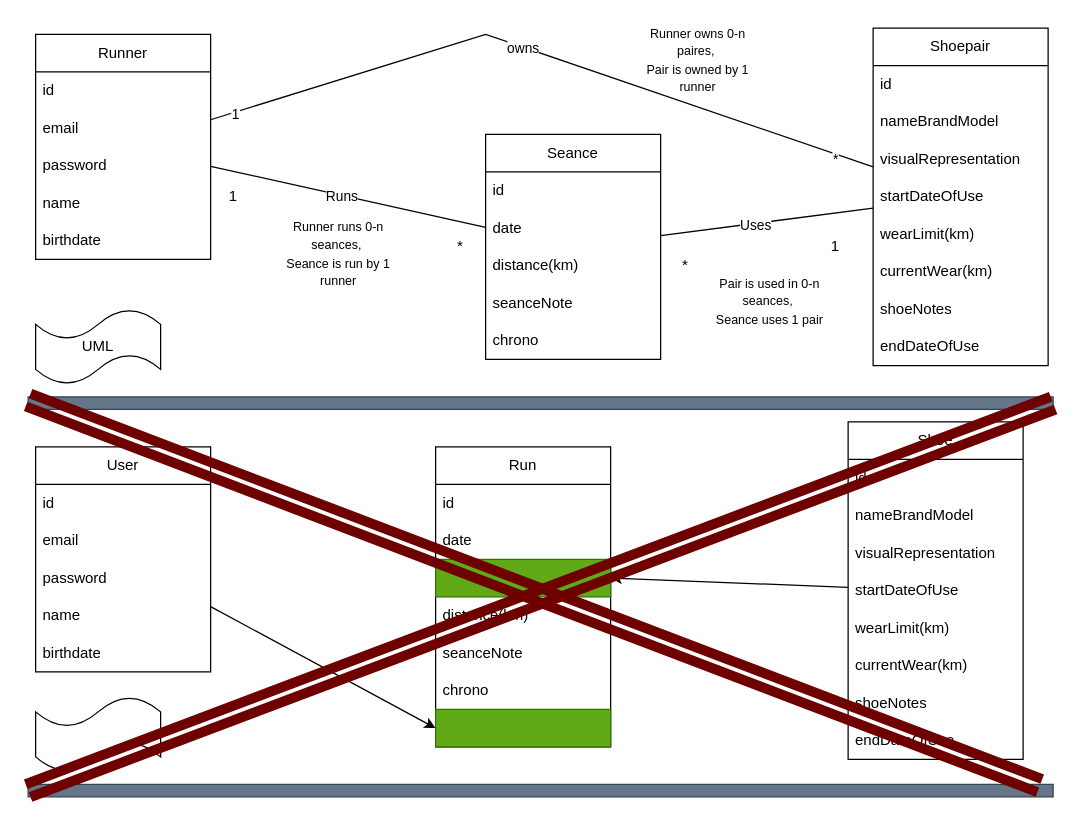
Some shapes in this 1083 by 824 pixel diagram are drawn without their labels. Here are the shapes that lost their labels. From the top down, the centre of each, then its label:
At (x=522, y=577): "shoeId".
At (x=522, y=727): "userId".
